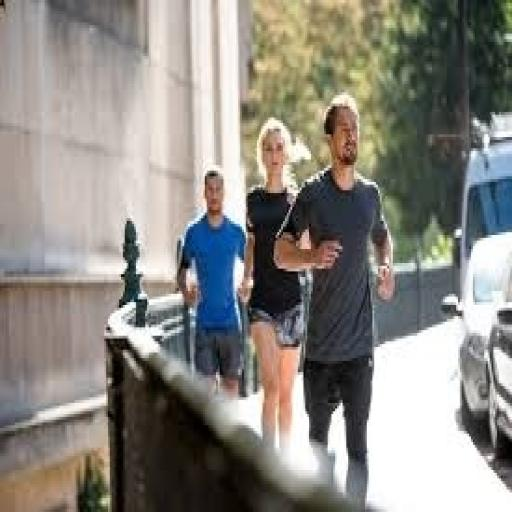running: (272, 92, 398, 510), (175, 165, 251, 409)
